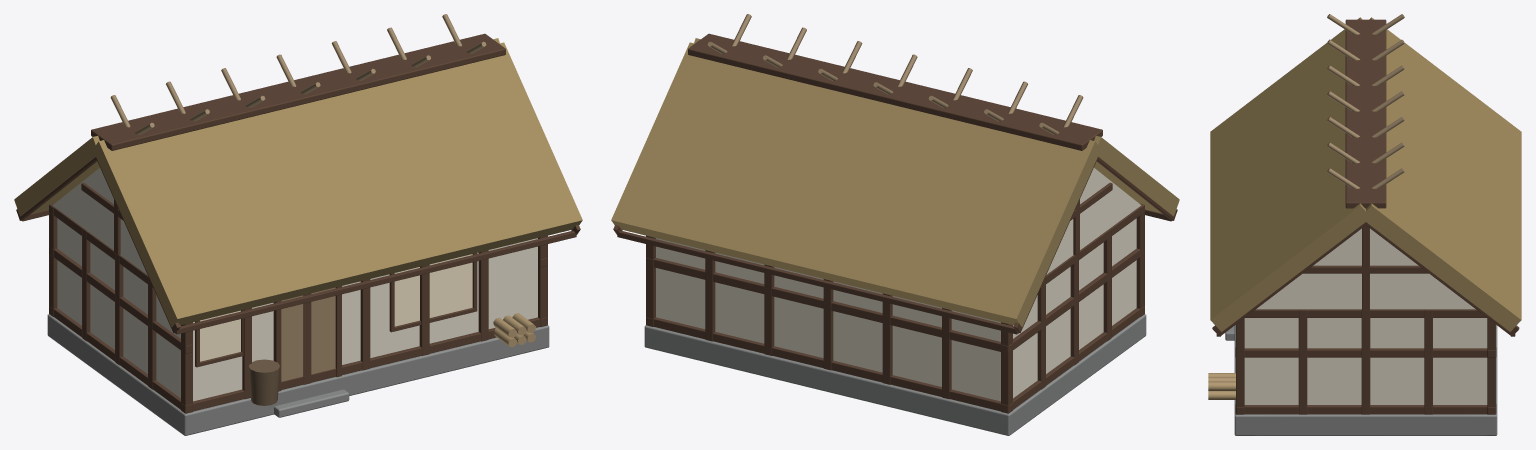
The model's file is village-farmhouse.glb.
3 renders of one model, left to right at view 1: azimuth 30°, elevation 25°; view 2: azimuth 150°, elevation 25°; view 3: azimuth 270°, elevation 25°, orthographic. The views are drawn at different scales.
Visible parts, largest first — view 1: cell-0-1:village-thatch, cell-2-1:village-thatch, cell-1-1:village-thatch, cell-0-1:village-cedar, cell-1-1:village-cedar, cell-0-1:village-plaster, cell-0-0:village-plaster, cell-0-0:village-cedar, cell-2-1:village-cedar, cell-2-1:village-plaster, cell-0-1:village-stone, cell-1-1:village-plaster (+14 smaller); view 2: cell-0-0:village-thatch, cell-2-0:village-thatch, cell-1-0:village-thatch, cell-0-0:village-cedar, cell-0-0:village-plaster, cell-1-0:village-cedar, cell-2-0:village-cedar, cell-1-0:village-plaster, cell-2-0:village-plaster, cell-0-1:village-plaster, cell-0-1:village-cedar, cell-0-0:village-stone (+7 smaller); view 3: cell-2-1:village-plaster, cell-2-0:village-plaster, cell-2-0:village-thatch, cell-2-1:village-thatch, cell-0-0:village-thatch, cell-0-1:village-thatch, cell-2-1:village-cedar, cell-2-0:village-cedar, cell-1-0:village-thatch, cell-1-1:village-thatch, cell-2-0:village-stone, cell-2-1:village-stone (+11 smaller).
Part boxes in pixels (x1,y1,x2,y2): cell-0-1:village-thatch: (95,119,316,327); cell-2-1:village-thatch: (370,42,582,262); cell-1-1:village-thatch: (243,88,443,293); cell-0-1:village-cedar: (96,104,313,413); cell-1-1:village-cedar: (235,73,439,384); cell-0-1:village-plaster: (120,219,273,401); cell-0-0:village-plaster: (52,168,114,349); cell-0-0:village-cedar: (16,97,234,363); cell-2-1:village-cedar: (362,41,580,353); cell-2-1:village-plaster: (429,238,537,343); cell-0-1:village-stone: (115,364,309,435); cell-1-1:village-plaster: (342,274,419,364); cell-0-0:village-thatch: (877,119,1098,327); cell-2-0:village-thatch: (611,42,823,262); cell-1-0:village-thatch: (750,88,950,293); cell-0-0:village-cedar: (880,104,1097,413); cell-0-0:village-plaster: (892,219,1073,401); cell-1-0:village-cedar: (754,73,958,384); cell-2-0:village-cedar: (613,41,831,353); cell-1-0:village-plaster: (774,267,882,372); cell-2-0:village-plaster: (656,238,764,343); cell-0-1:village-plaster: (1079,168,1141,349); cell-0-1:village-cedar: (959,97,1177,363); cell-0-0:village-stone: (889,364,1078,435); cell-2-1:village-plaster: (1244,228,1361,404); cell-2-0:village-plaster: (1370,228,1487,404); cell-2-0:village-thatch: (1366,155,1521,331); cell-2-1:village-thatch: (1210,155,1365,331); cell-0-0:village-thatch: (1369,17,1521,196); cell-0-1:village-thatch: (1210,17,1362,196); cell-2-1:village-cedar: (1212,140,1365,414); cell-2-0:village-cedar: (1366,140,1519,414); cell-1-0:village-thatch: (1386,93,1521,254); cell-1-1:village-thatch: (1210,93,1345,254); cell-2-0:village-stone: (1366,360,1497,435); cell-2-1:village-stone: (1234,360,1365,435).
Bounding box in the file's own units: 7.7 × 4.97 × 5.41.
